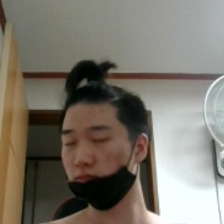OffMask: (58, 146, 144, 206)
